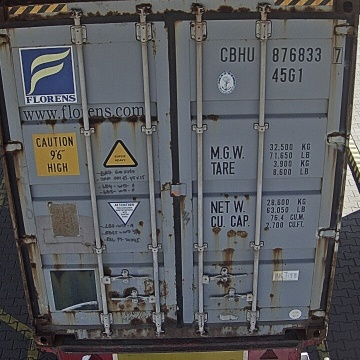serial_id: (221, 47, 342, 61)
